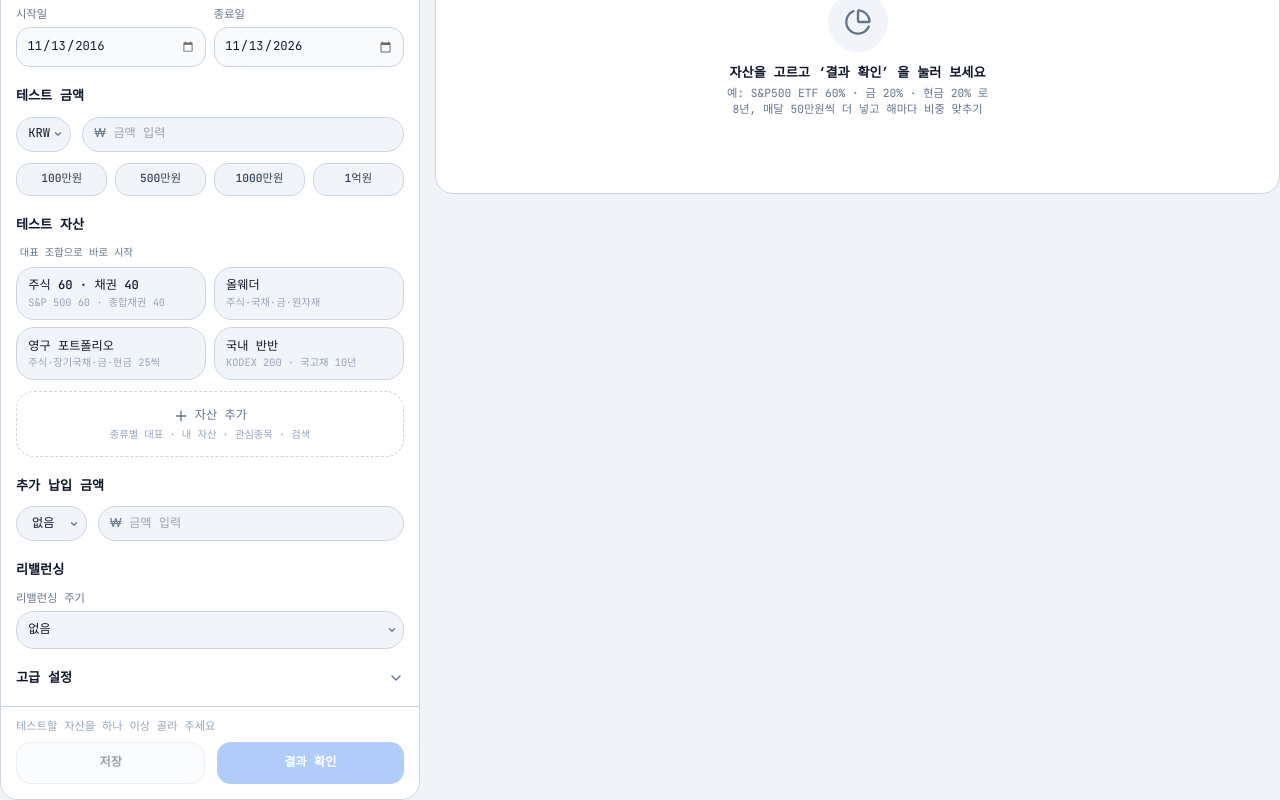
저장한 설정이 빠짐없이 되살아난다 › 0 과 false 도 그대로 되살아난다
(page scrolled)
Step 1. Click the button "고급 설정" → point(44, 677), box x1=16 y1=664 x2=404 y2=691
(page scrolled)
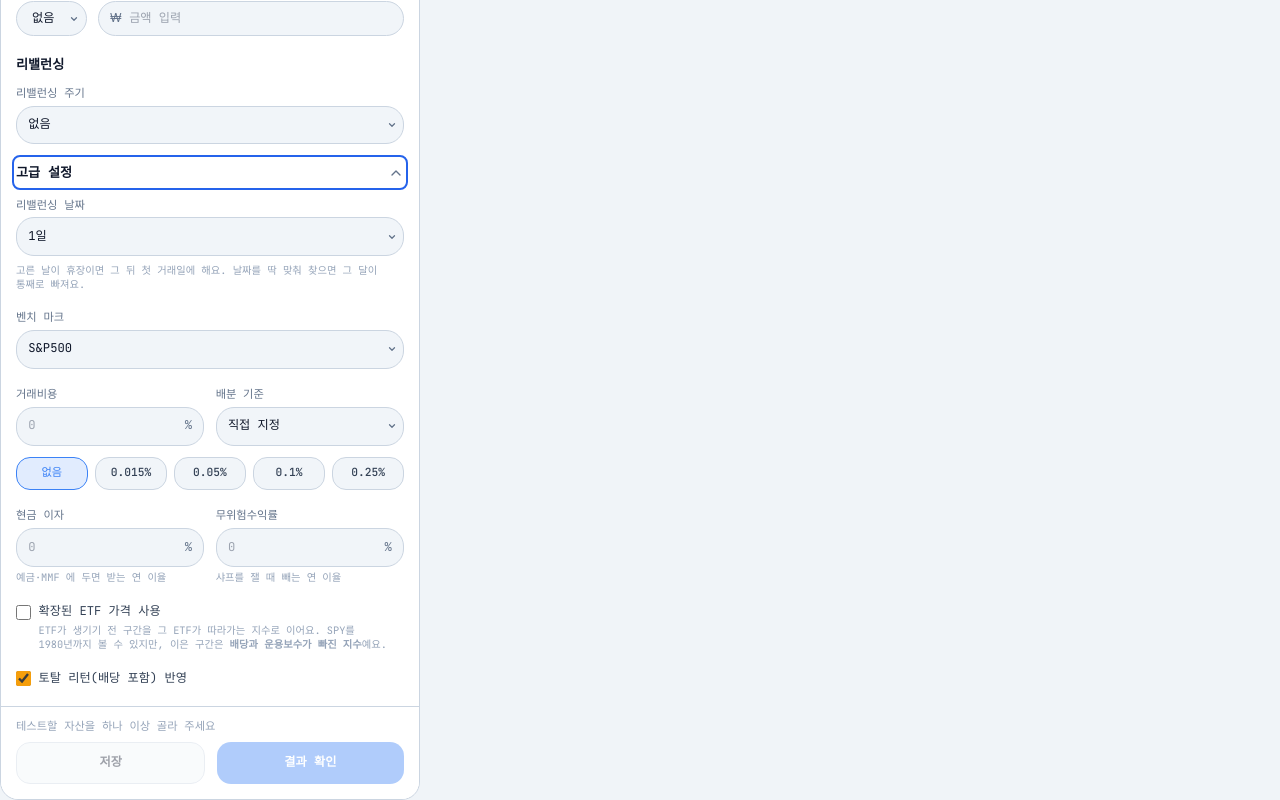
Step 2. Click the button named "거래비용 0.25%" → point(368, 473), box x1=332 y1=457 x2=404 y2=490
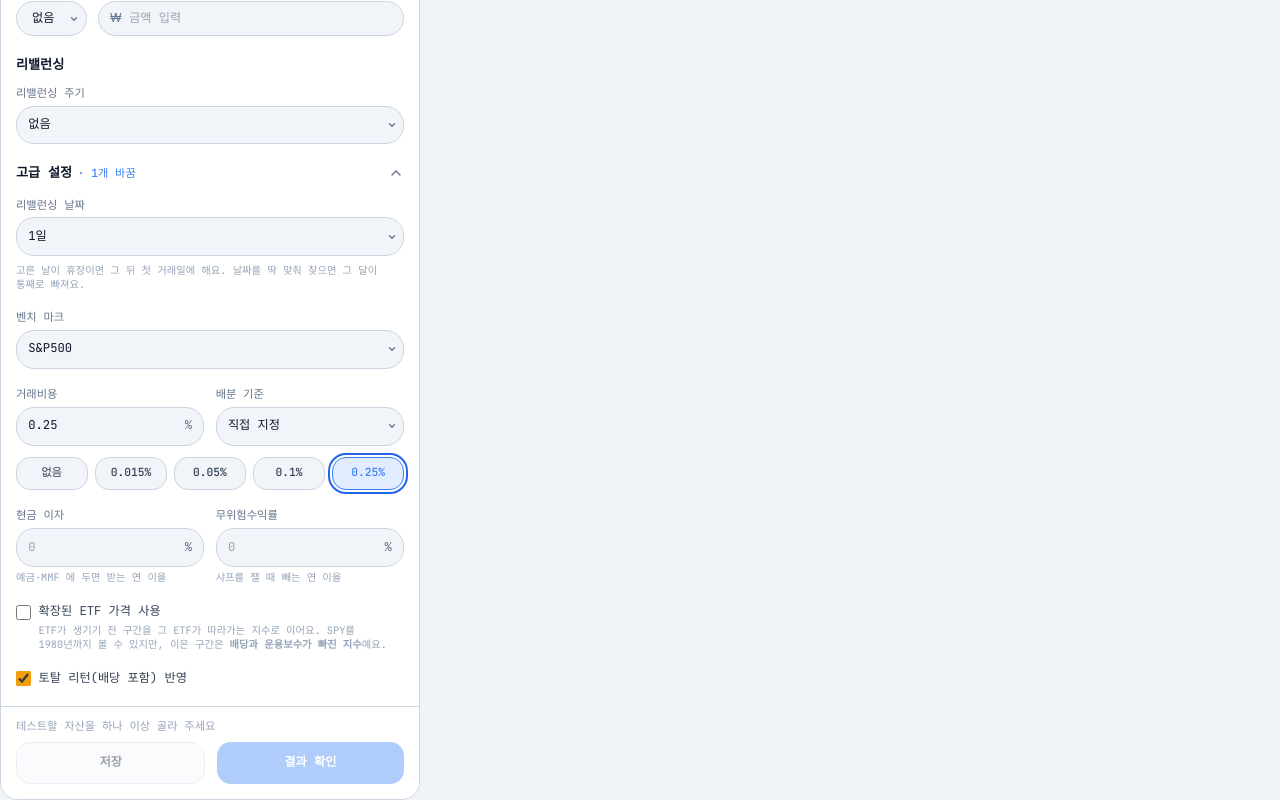
Step 3. Click the checkbox labelled "확장된 ETF 가격 사용" → point(24, 613), box x1=16 y1=605 x2=31 y2=620
(page scrolled)
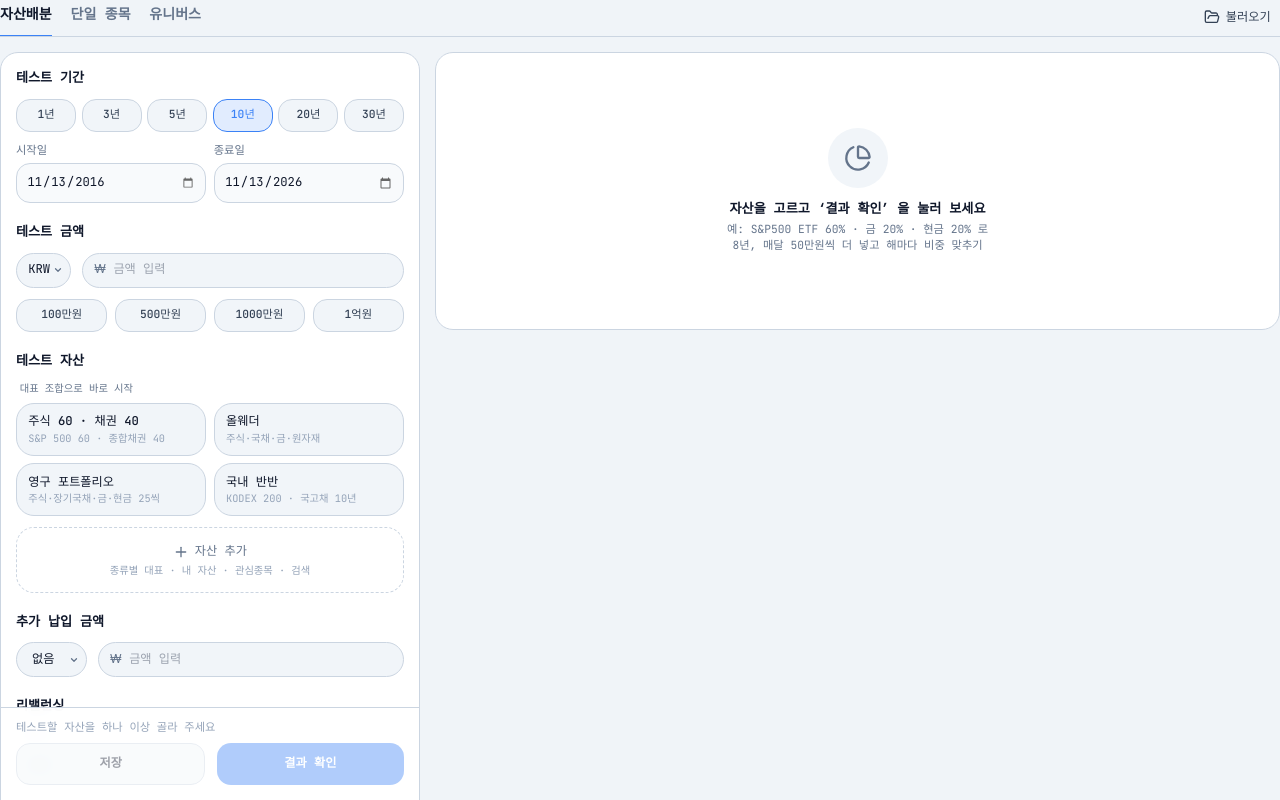
Step 4. Click the button "불러오기" → point(1237, 17), box x1=1195 y1=3 x2=1279 y2=32
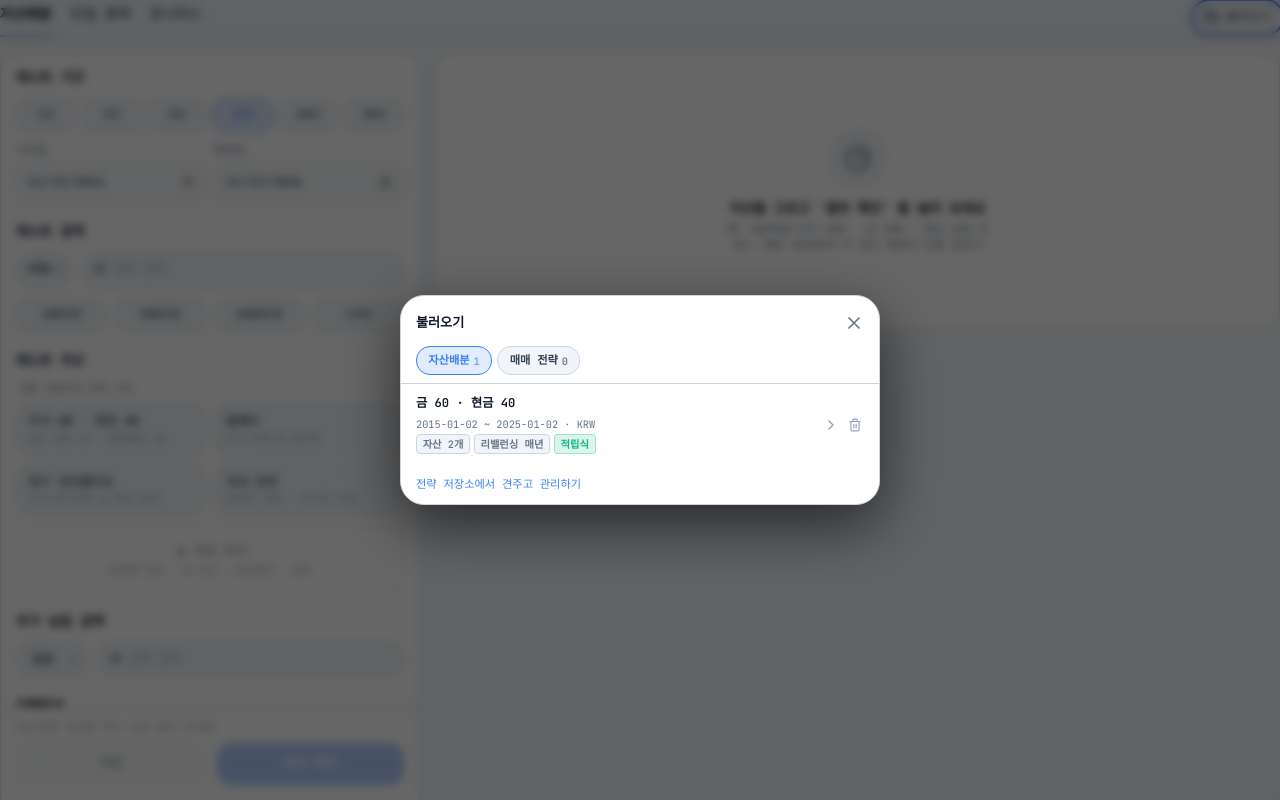
Step 5. Click the button "금 60 · 현금 40 2015-01-02 ~ 2025-01-02 · KRW 자산 2개 리밸런싱 매년 적립식" → point(466, 403), box x1=401 y1=384 x2=842 y2=466
(page scrolled)
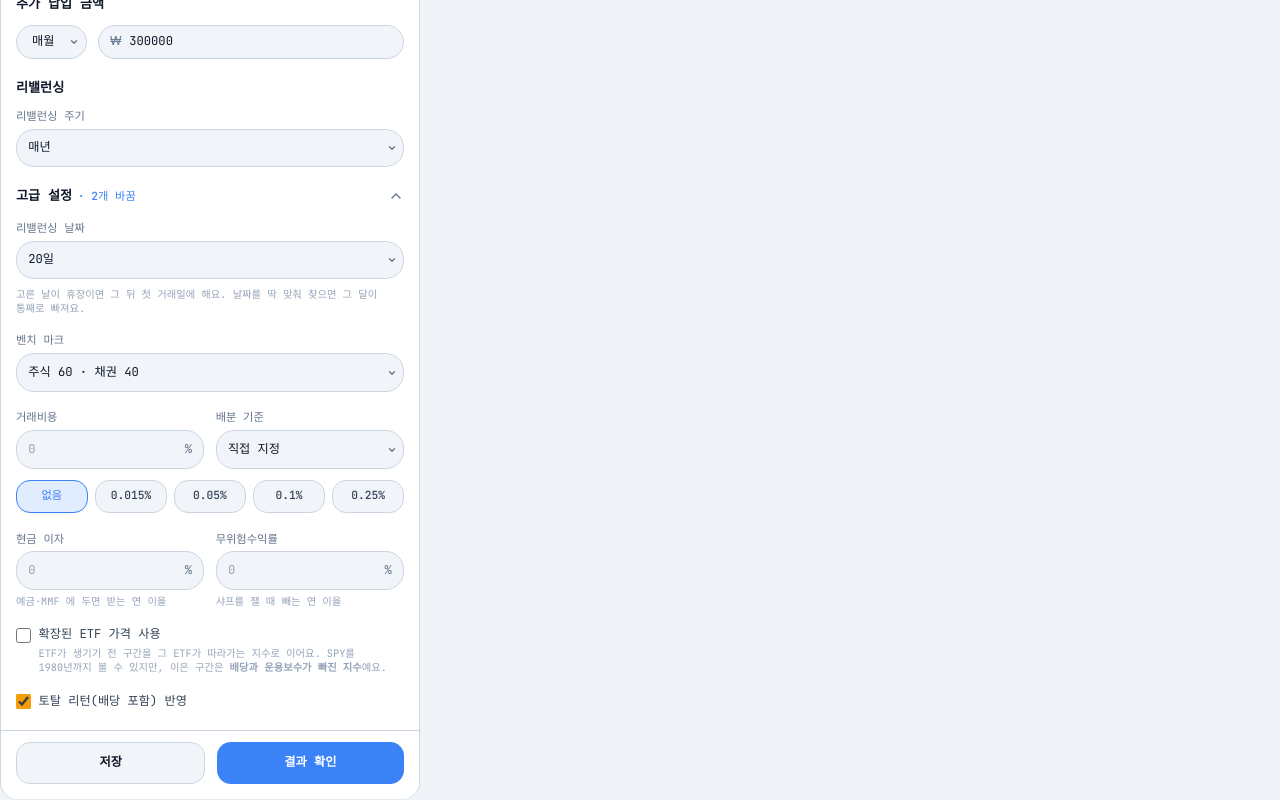
Now the checkbox labelled "확장된 ETF 가격 사용" is not checked, box x1=16 y1=628 x2=31 y2=643
Now the dropdown labelled "배분 기준" shows "직접 지정", box x1=216 y1=430 x2=404 y2=469
Now the field labelled "거래비용" is empty, box x1=28 y1=431 x2=181 y2=468
